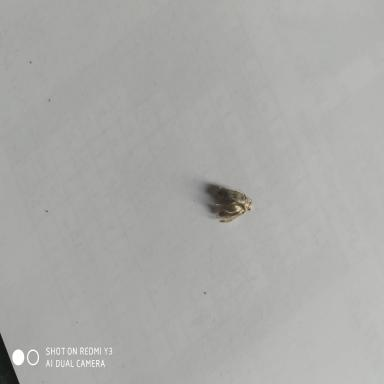abw: (214, 185, 253, 224)
